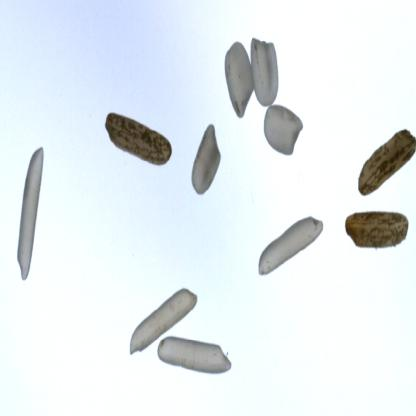Full: (129, 289, 199, 356), (257, 216, 325, 278), (356, 129, 416, 198), (104, 113, 173, 169), (17, 147, 45, 282), (156, 336, 232, 377), (344, 211, 410, 251), (223, 42, 255, 119), (191, 124, 223, 197), (263, 105, 306, 158), (250, 37, 282, 108)
